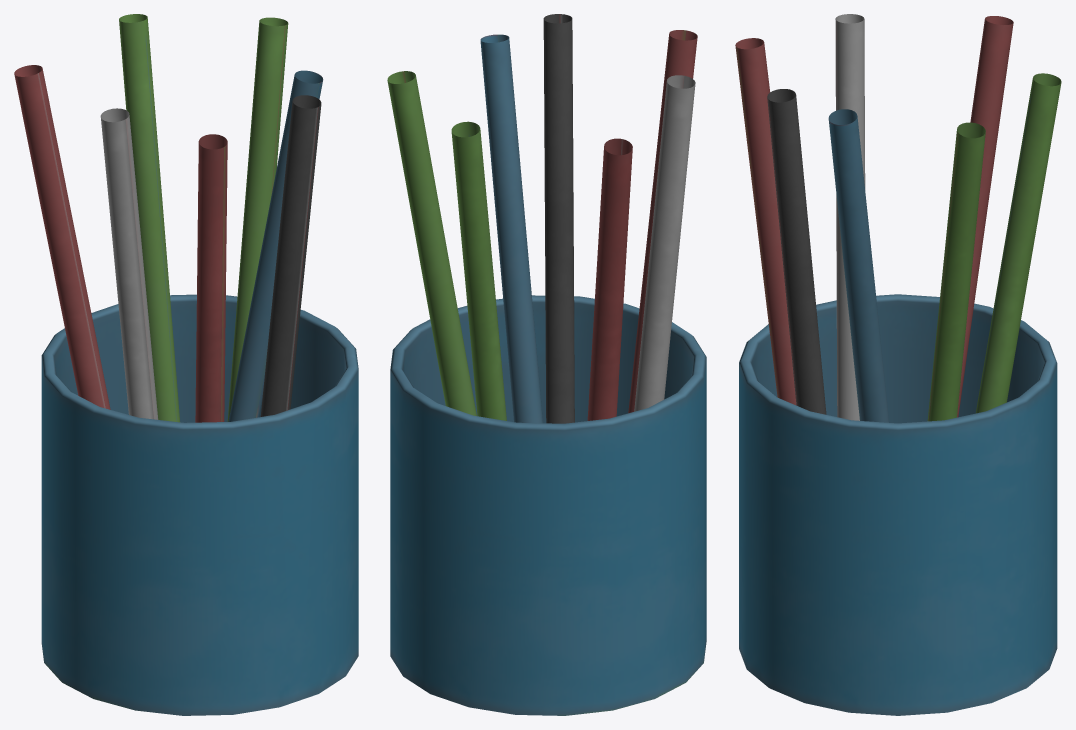
Rendered from SM_Cup2.fbx.
3 views of the same model, side by side, from view 1: azimuth 30°, elevation 25°; view 2: azimuth 150°, elevation 25°; view 3: azimuth 270°, elevation 25° (orthographic).
Visible parts, largest first — view 1: SM_Cup2_LOD0; view 2: SM_Cup2_LOD0; view 3: SM_Cup2_LOD0.
Part boxes in pixels (<box>): SM_Cup2_LOD0: <box>14,14,358,715</box>; SM_Cup2_LOD0: <box>387,14,706,715</box>; SM_Cup2_LOD0: <box>735,14,1061,715</box>.
Bounding box in the file's own units: 8.54 × 8.75 × 17.1.
Materials: 1 (1 with a texture image).
